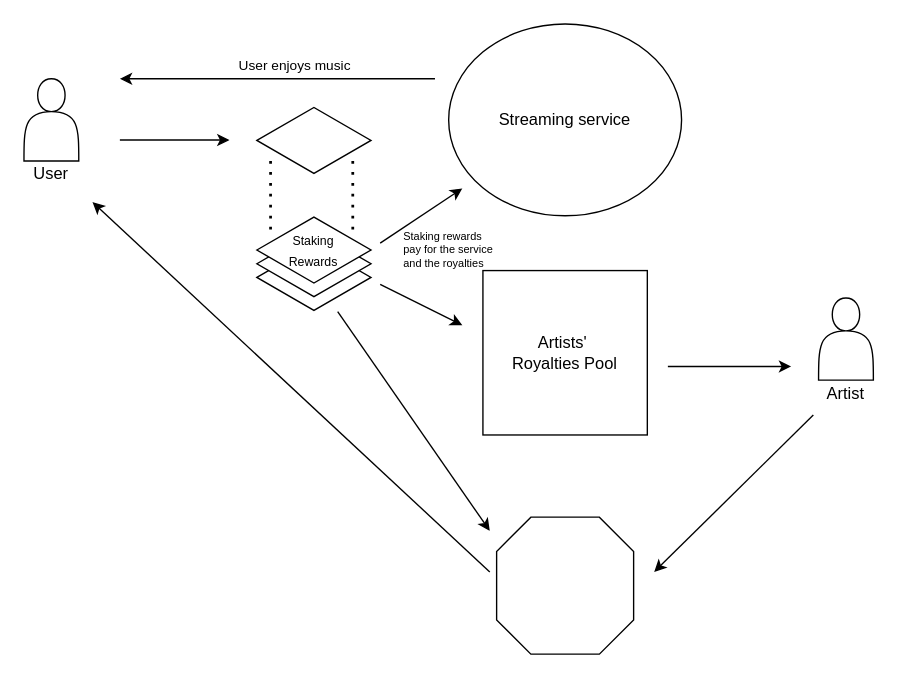
This 897x678 diagram has some shape labels left out. Each missing label, with the centre of its shape:
"Artist generated markets" belongs at pixel 564 585.
"Stakable Token" belongs at pixel 313 140.
